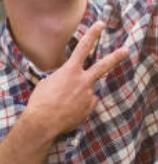front: (25, 19, 133, 137)
